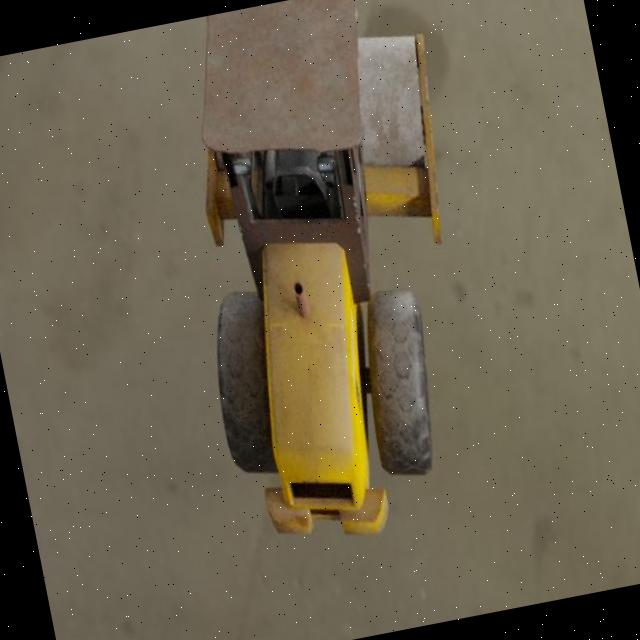Roller: (147, 0, 516, 561)
